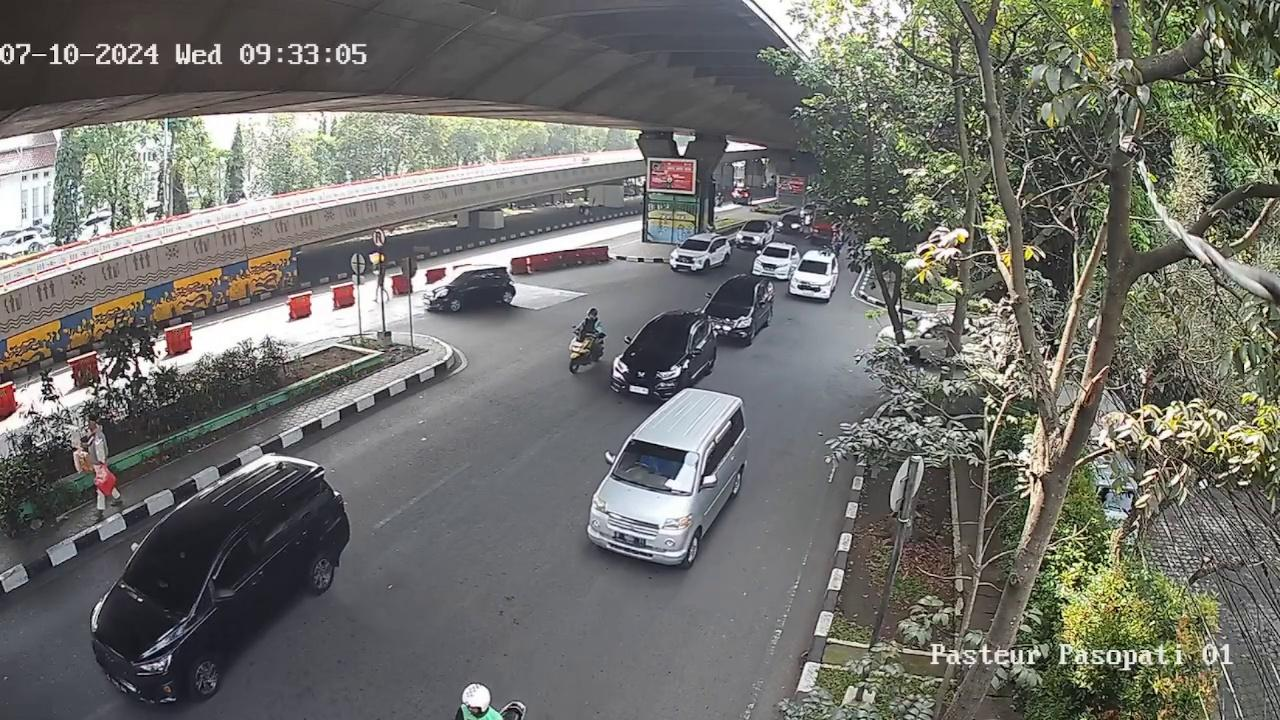tidak-pakai: (637, 448, 669, 474)
windshield: (117, 529, 211, 612), (603, 433, 709, 494), (632, 323, 688, 356), (712, 282, 756, 302)
